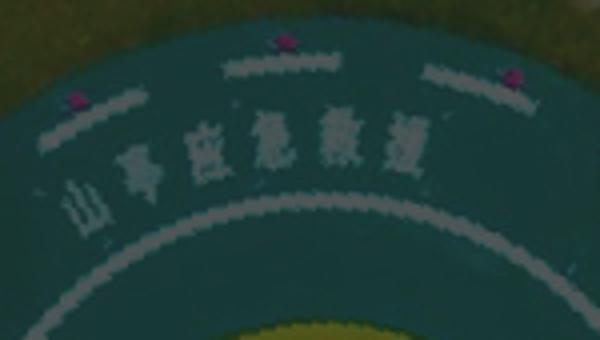Apron: (205, 317, 459, 340)
